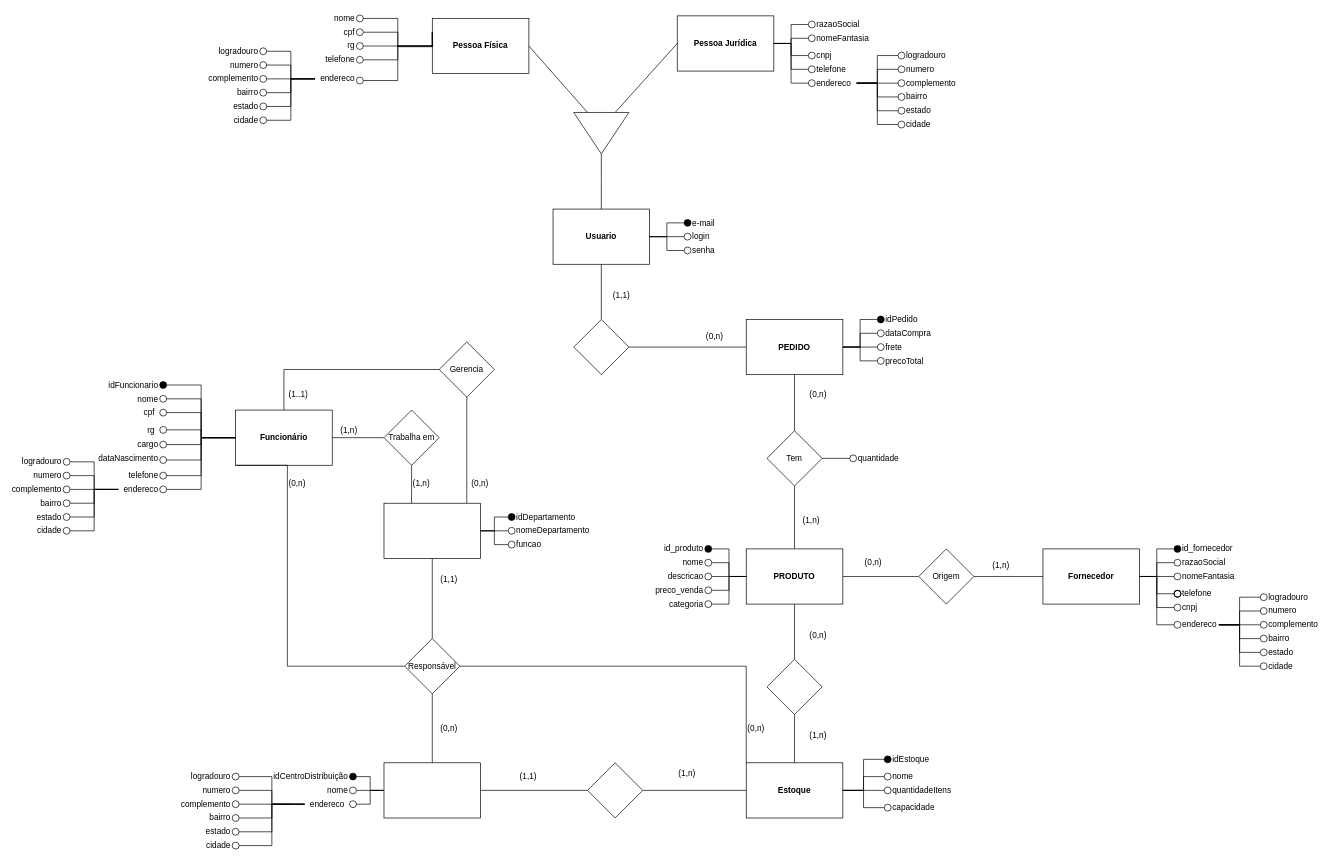
This 1330x865 diagram has some shape labels left out. Here are the shapes that lost their labels. From the top down, the centre of each, then its label:
At pixel 601 133: "É uma".
At pixel 601 347: "Realiza".
At pixel 432 530: "Departamento".
At pixel 794 686: "Armazena".
At pixel 432 790: "Centro de Distribuição".
At pixel 615 790: "Cotém".
